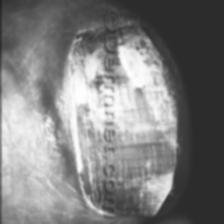Toxin: (49, 38, 97, 216), (122, 34, 167, 218)
